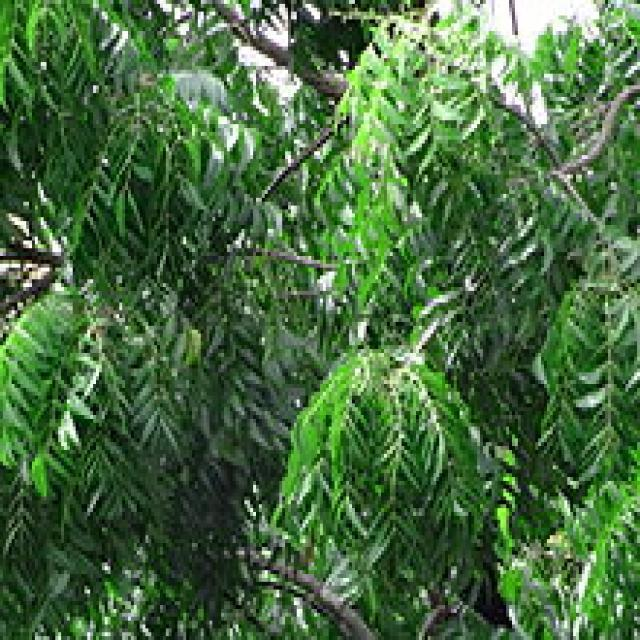Wet: (2, 11, 631, 640)
